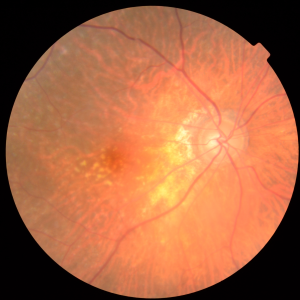retina_disease: (70, 88, 276, 204)
